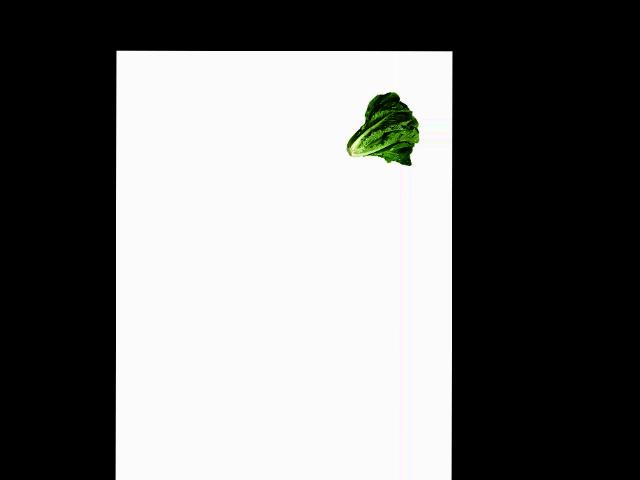lettuce: (343, 91, 419, 164)
